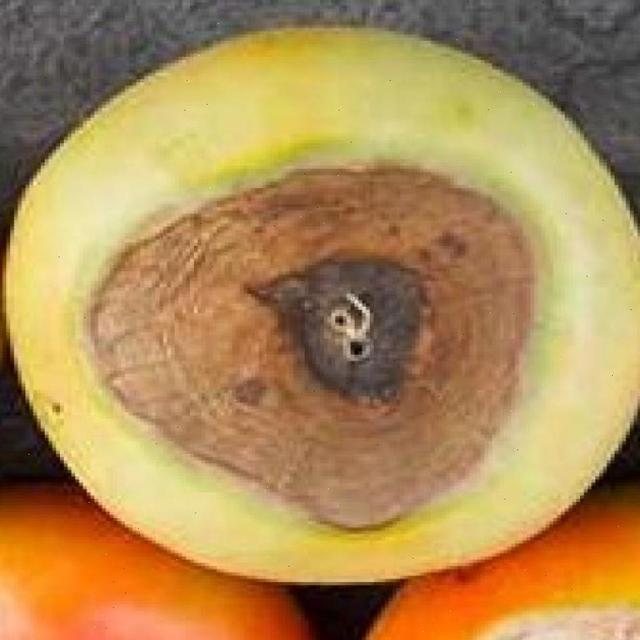Blossom End Rot Fruit: (109, 26, 372, 414)
